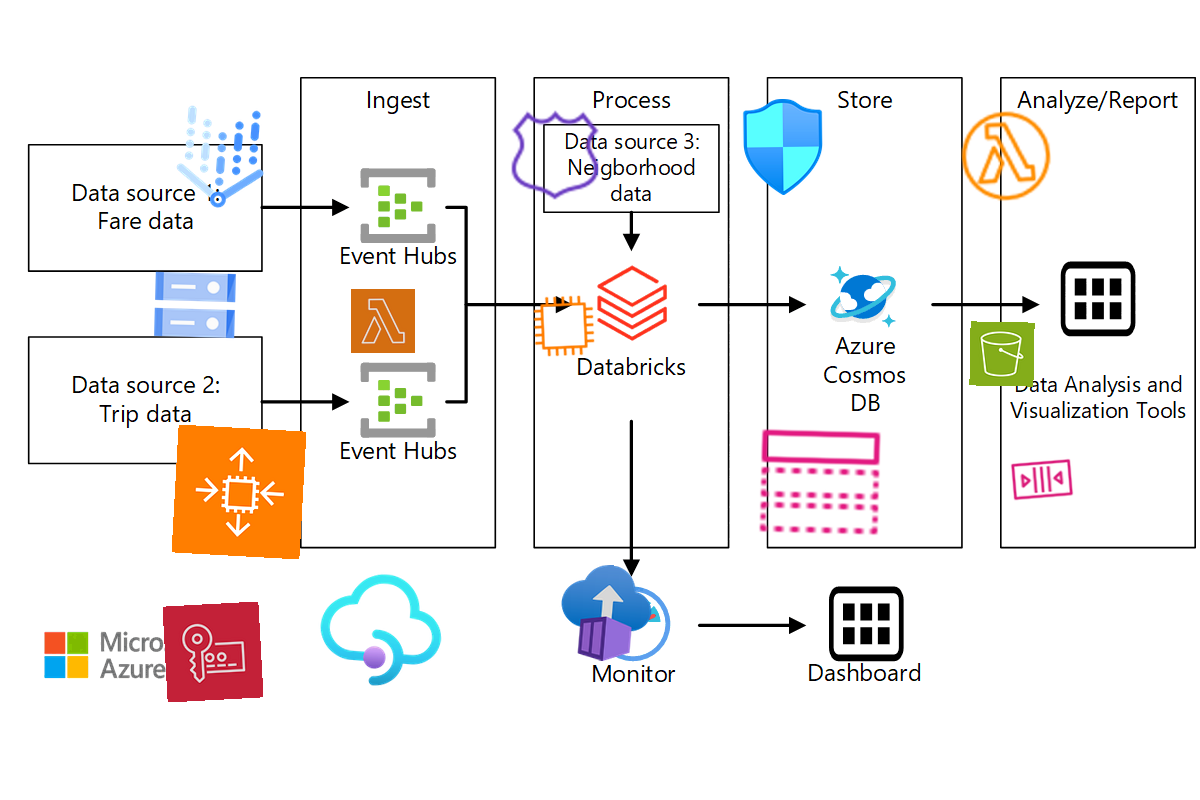aws_amazon_ec2_auto_scaling: (171, 424, 307, 560)
aws_amazon_simple_storage_service: (969, 321, 1035, 387)
aws_ec2_instance: (530, 292, 598, 360)
aws_key_management_service: (162, 601, 264, 703)
aws_lambda: (350, 288, 416, 354)
aws_lambda_lambda_function: (955, 105, 1057, 207)
aws_route_53_hosted_zone: (507, 106, 605, 204)
aws_simple_notification_service_topic: (754, 416, 886, 548)
aws_simple_queue_service_queue: (1007, 444, 1077, 514)
azure_api_management_services: (312, 561, 450, 699)
azure_container_instances: (554, 561, 658, 665)
azure_network_security_groups: (734, 98, 832, 196)
gcp_cloud_storage: (145, 255, 245, 355)
gcp_vertex_ai: (152, 89, 290, 227)
